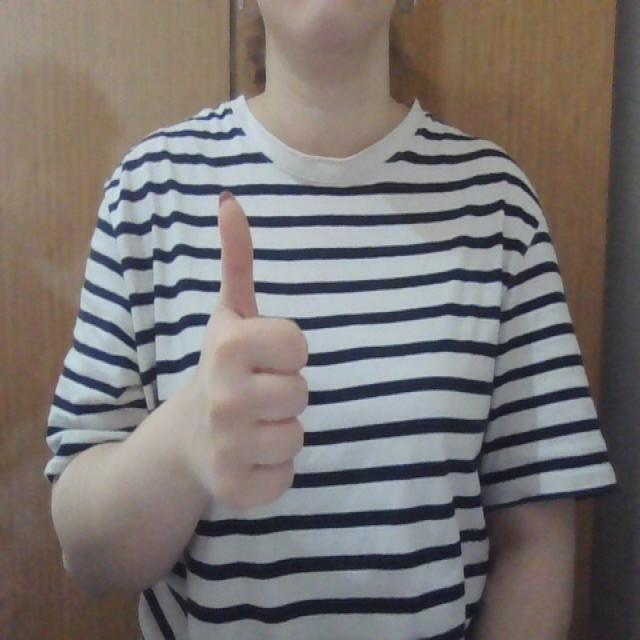Tamam: (180, 184, 332, 536)
